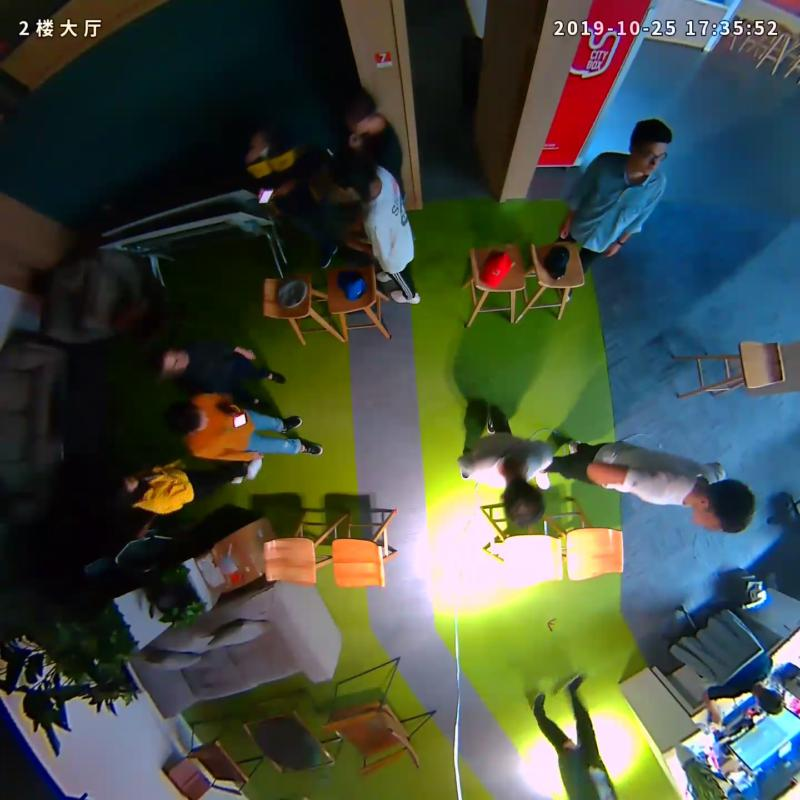head: (688, 473, 762, 547), (619, 113, 680, 186), (328, 148, 390, 208), (494, 476, 553, 536), (132, 335, 191, 385), (329, 83, 386, 134), (222, 120, 270, 169), (90, 466, 141, 511), (161, 396, 209, 442)
